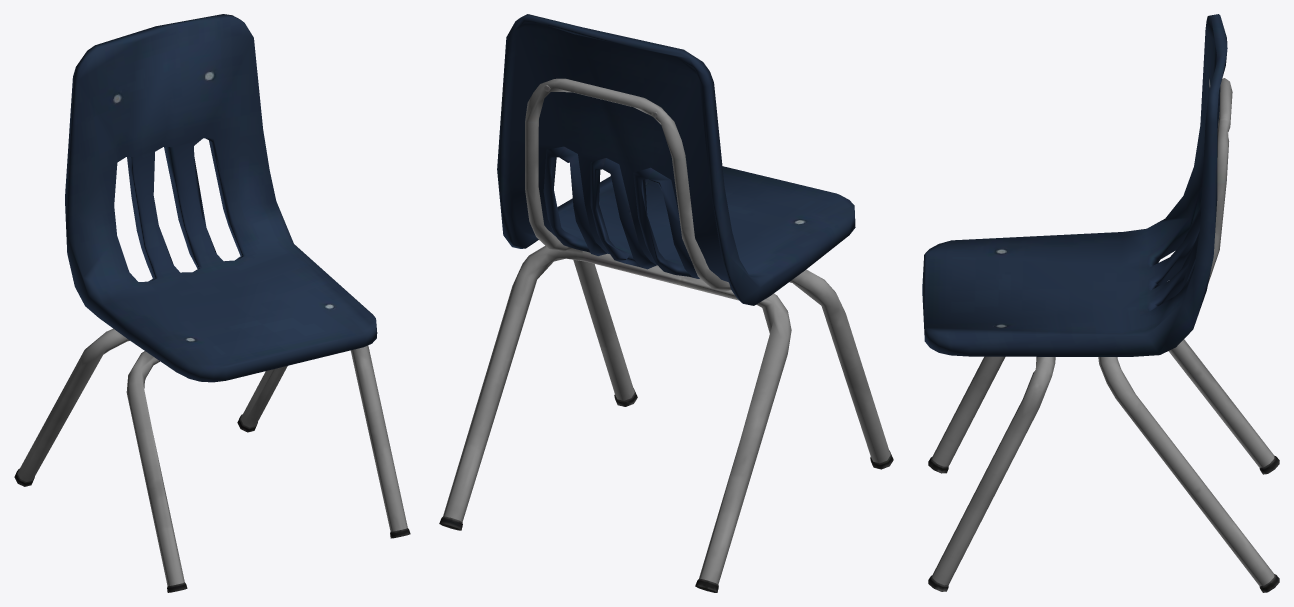
File: SchoolChair_01.glb
3 views of the same model, side by side, from view 1: azimuth 30°, elevation 25°; view 2: azimuth 150°, elevation 25°; view 3: azimuth 270°, elevation 25° (orthographic). The views are drawn at different scales.
Visible parts, largest first — view 1: SchoolChair_01; view 2: SchoolChair_01; view 3: SchoolChair_01.
Part boxes in pixels (x1,y1,x2,y2): SchoolChair_01: (14, 14, 410, 592); SchoolChair_01: (439, 14, 893, 592); SchoolChair_01: (922, 14, 1279, 592).
Size of the model in its own units: 0.5658 by 1 by 0.673.
1 material, 1 textured.
